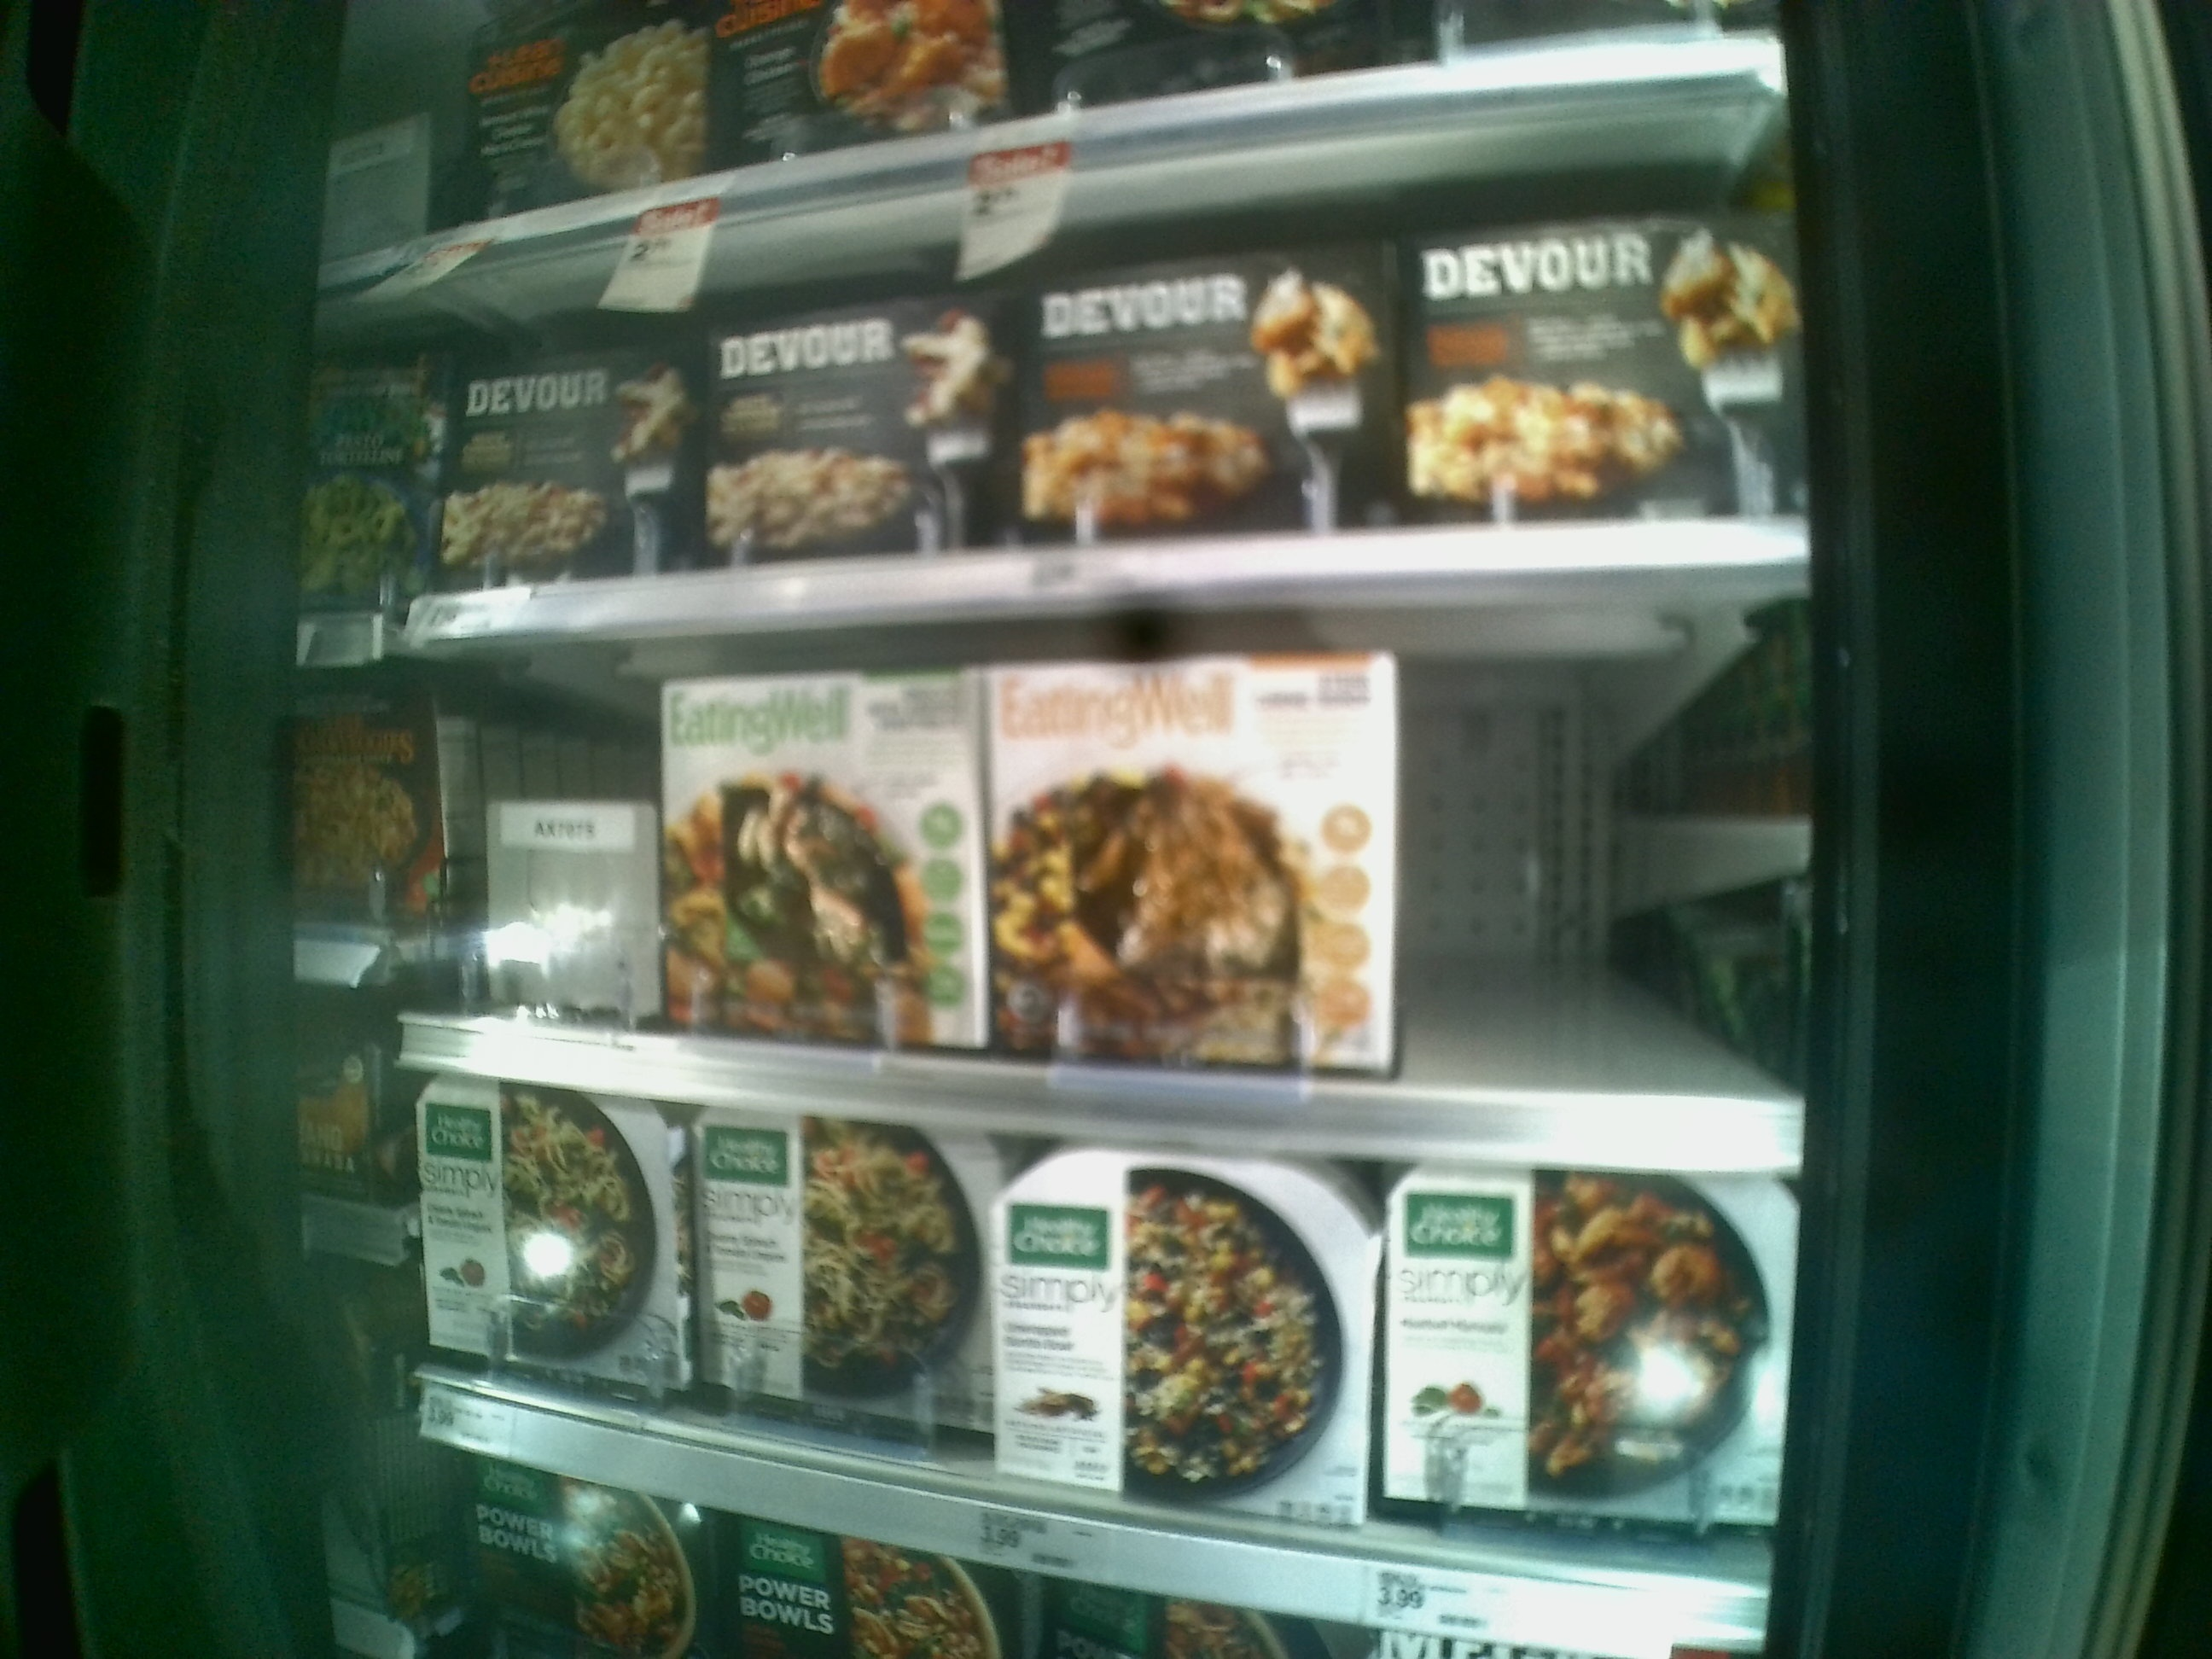shelf: (404, 586, 1801, 1183)
